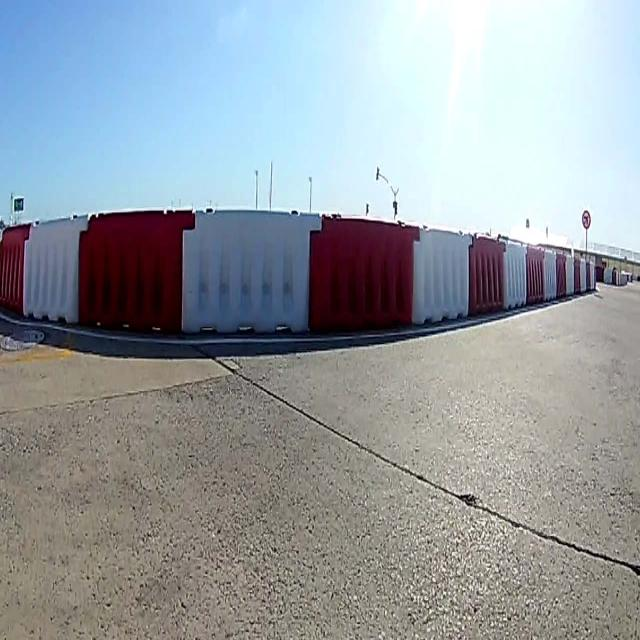soladonulmez: (581, 208, 591, 232)
